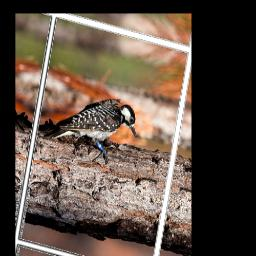Woodpecker: (34, 74, 147, 182)
